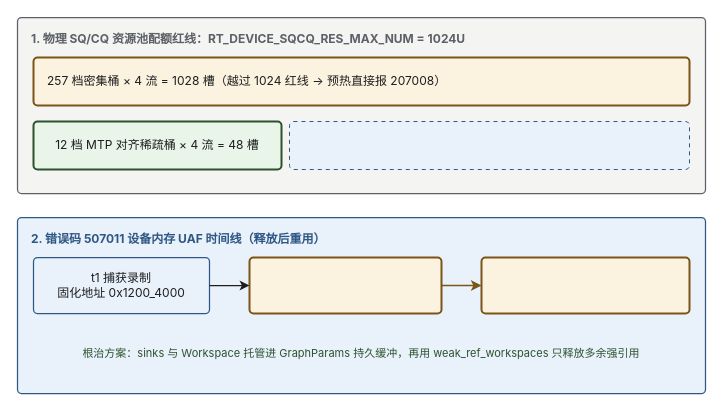
Some shapes in this 724 by 412 pixel diagram are drawn without their labels. The centre of each missing label's shape, as x and y in pixels:
"t2 中途释放 / 抢占 sinks 或局部缓冲被回收" belongs at (x=345, y=285).
"t3 图重放读写悬空指针 硬件报 507011 异常" belongs at (x=585, y=285).
"剩余 976 组物理 SQ/CQ 安全余量（稳妥容纳多流通信与副本）" belongs at (x=489, y=145).
